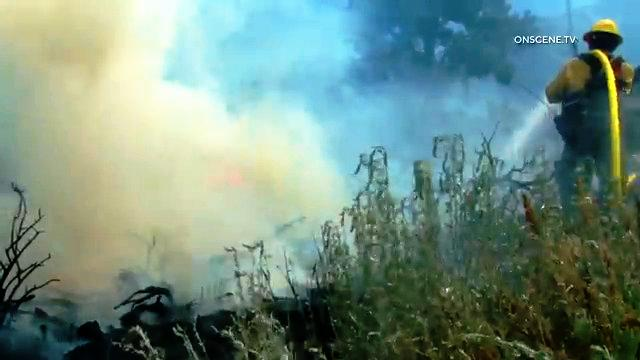smoke: (2, 6, 324, 168)
